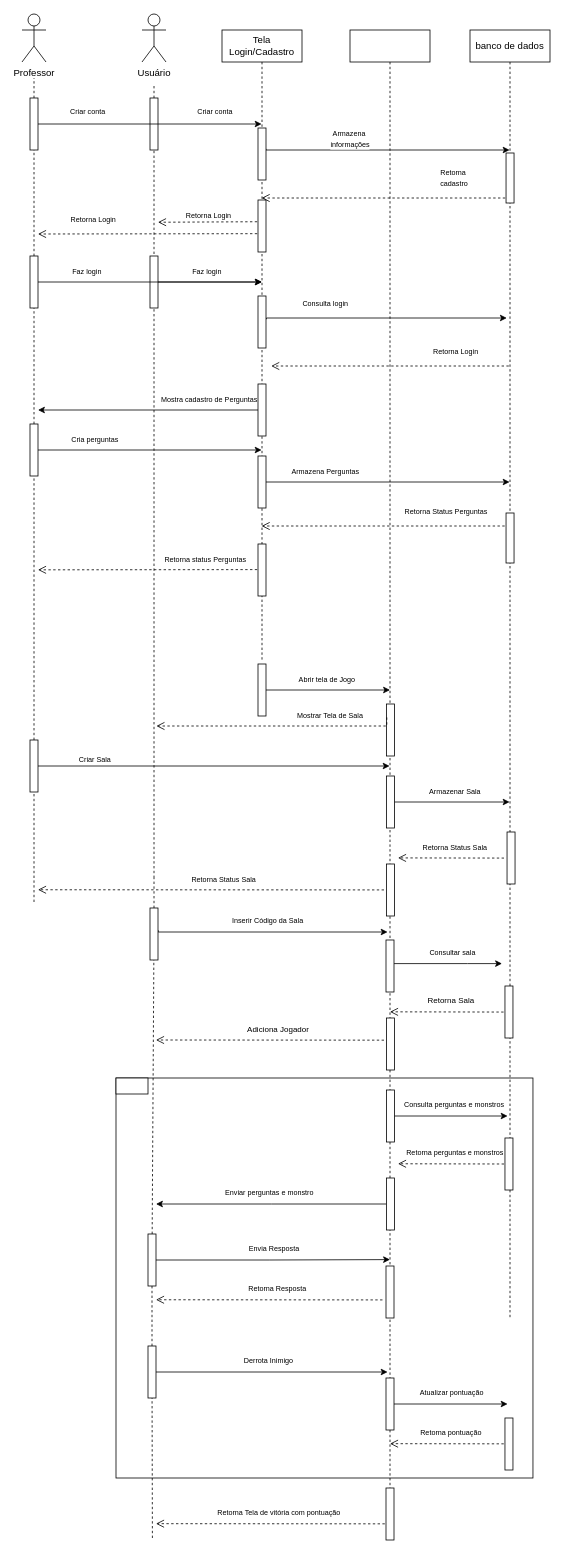
Image size: 564x1554. Some labels were removed from this diagram. Each missing label, with the box of its shape:
LOOP: (115, 1077, 148, 1094)
Tela de Jogo: (349, 29, 430, 1502)
